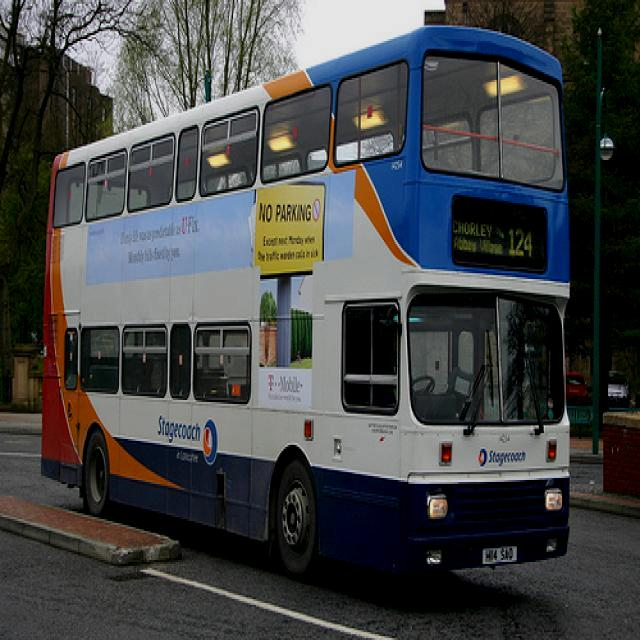bus: (41, 25, 572, 585)
